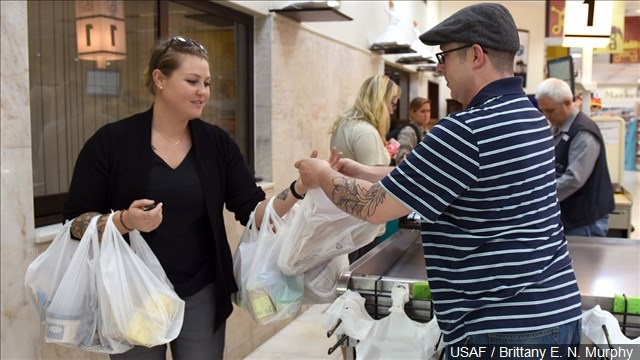plastic bag: (27, 208, 179, 360), (215, 195, 344, 324), (265, 165, 393, 293)
